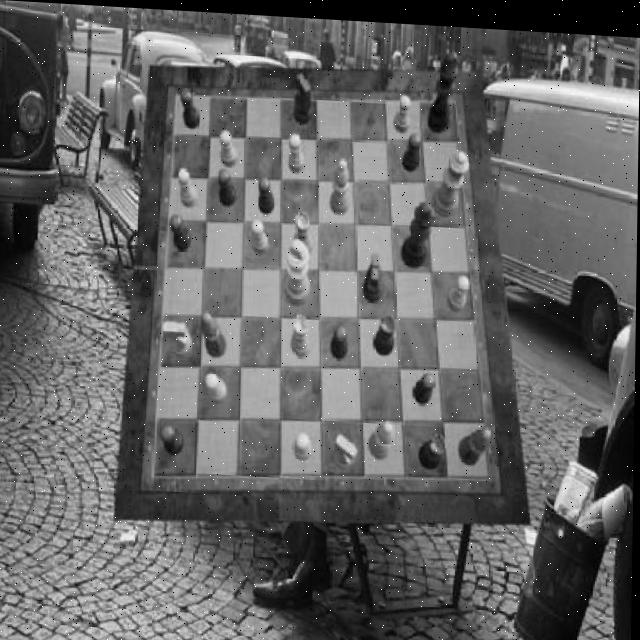bishop: (459, 420, 493, 462), (202, 308, 227, 354)
black-bishop: (428, 45, 459, 129)
black-king: (364, 248, 385, 298), (294, 71, 312, 124)
black-knight: (169, 213, 192, 250), (182, 87, 202, 128), (162, 421, 187, 453), (414, 367, 437, 401), (218, 165, 238, 204), (403, 128, 421, 167), (331, 320, 349, 356), (259, 174, 277, 210)
black-pawn: (403, 196, 438, 263)
black-queen: (421, 428, 449, 465), (375, 312, 398, 353)
black-rook: (330, 154, 350, 210), (370, 416, 395, 455)
white-bishop: (286, 234, 311, 302)
white-king: (163, 319, 194, 356), (335, 430, 360, 465)
white-knight: (176, 165, 199, 205), (449, 271, 472, 308), (394, 89, 412, 128), (289, 131, 306, 171), (206, 370, 227, 402), (220, 129, 238, 166), (251, 217, 269, 252), (295, 428, 314, 456)
white-pawn: (433, 145, 471, 213)
white-queen: (293, 309, 314, 354), (294, 208, 315, 253)
